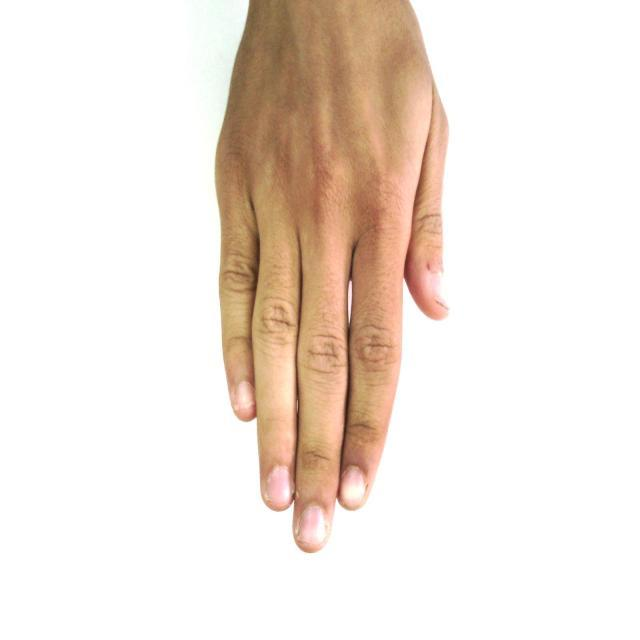Fingernail: (298, 506, 326, 545), (340, 467, 364, 508), (267, 466, 292, 504), (432, 273, 450, 309), (236, 382, 253, 409)
